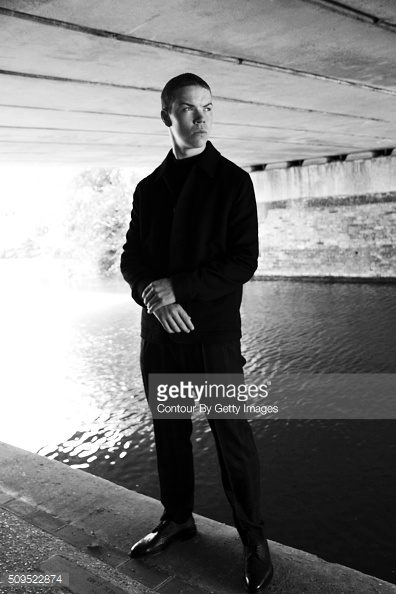em pe: (122, 72, 268, 412)
